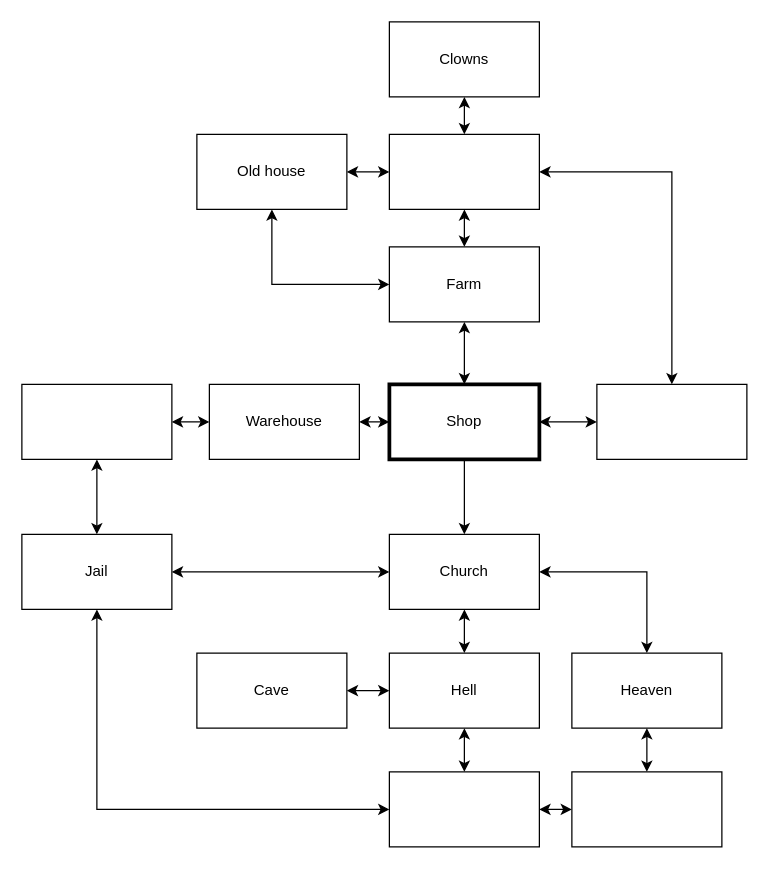
Some shapes in this 769 by 869 pixel diagram are drawn without their labels. Each missing label, with the centre of its shape:
Airport: the point at 96,421
Castle: the point at 463,809
Mountains: the point at 646,809
Playground: the point at 463,171
School: the point at 671,421
